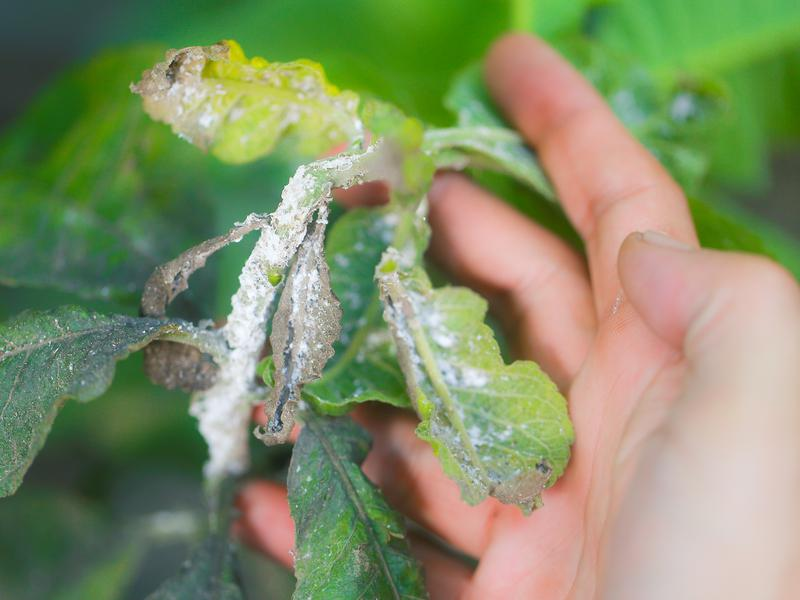Mealy_bug: (179, 147, 353, 495)
